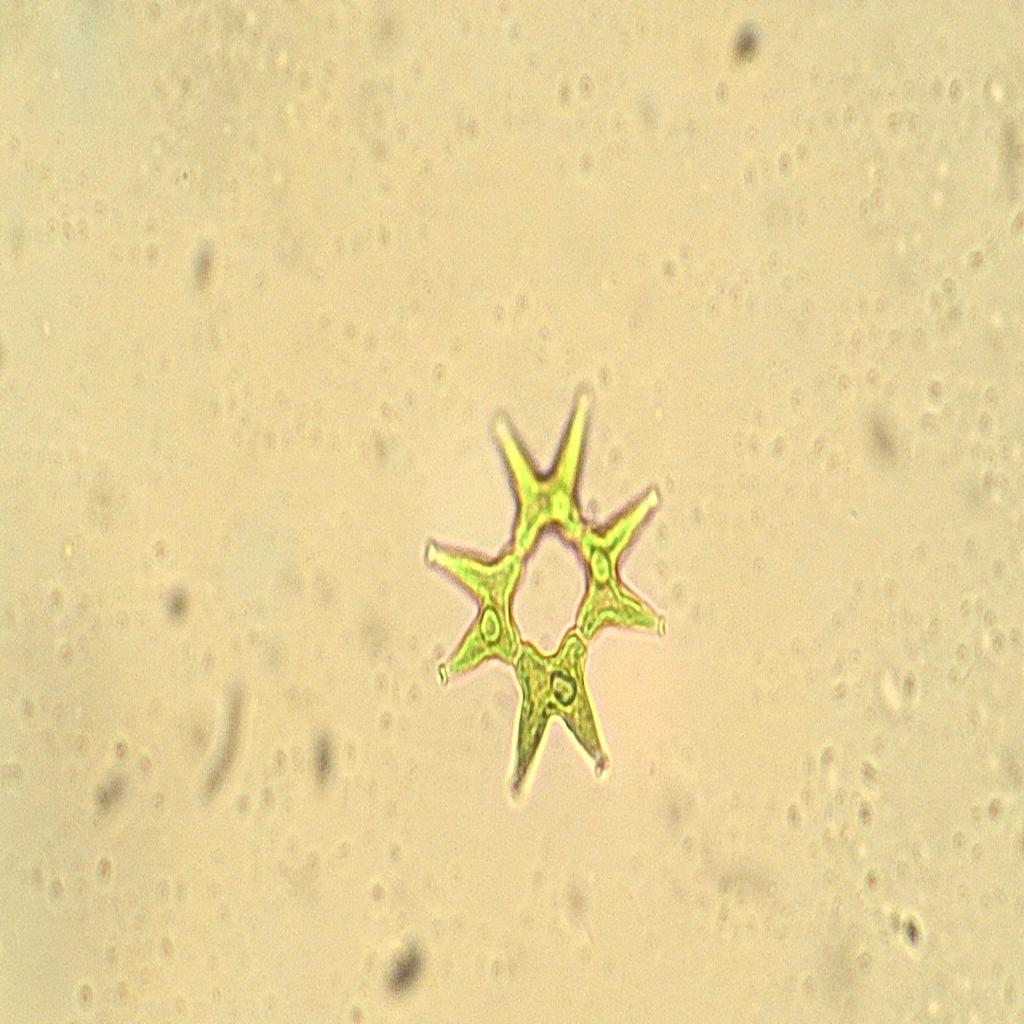Pediastrum_75O: (415, 376, 676, 828)
